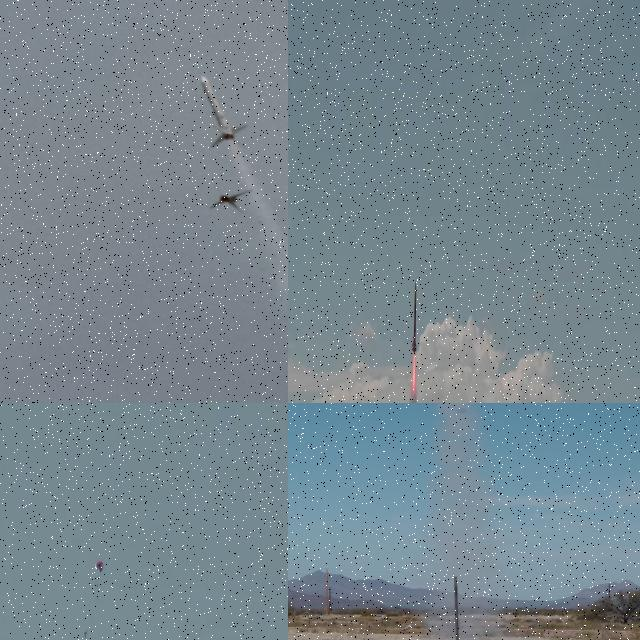Rocket: (198, 74, 250, 150), (412, 280, 417, 356)
